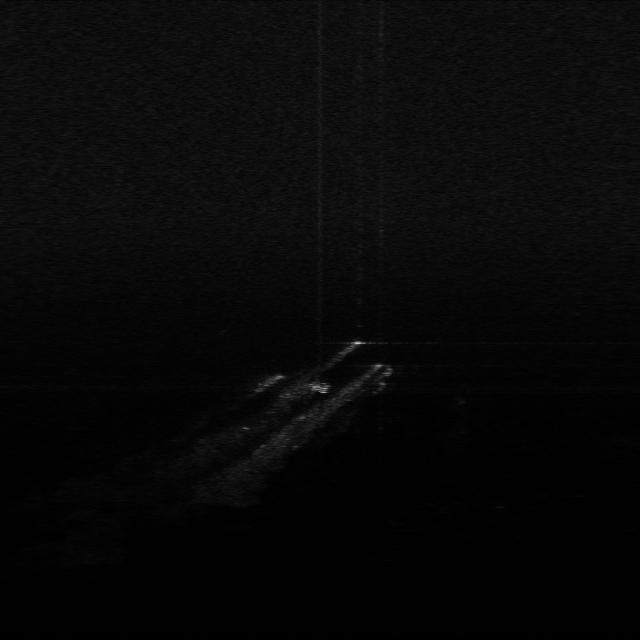rov: (307, 378, 333, 398)
